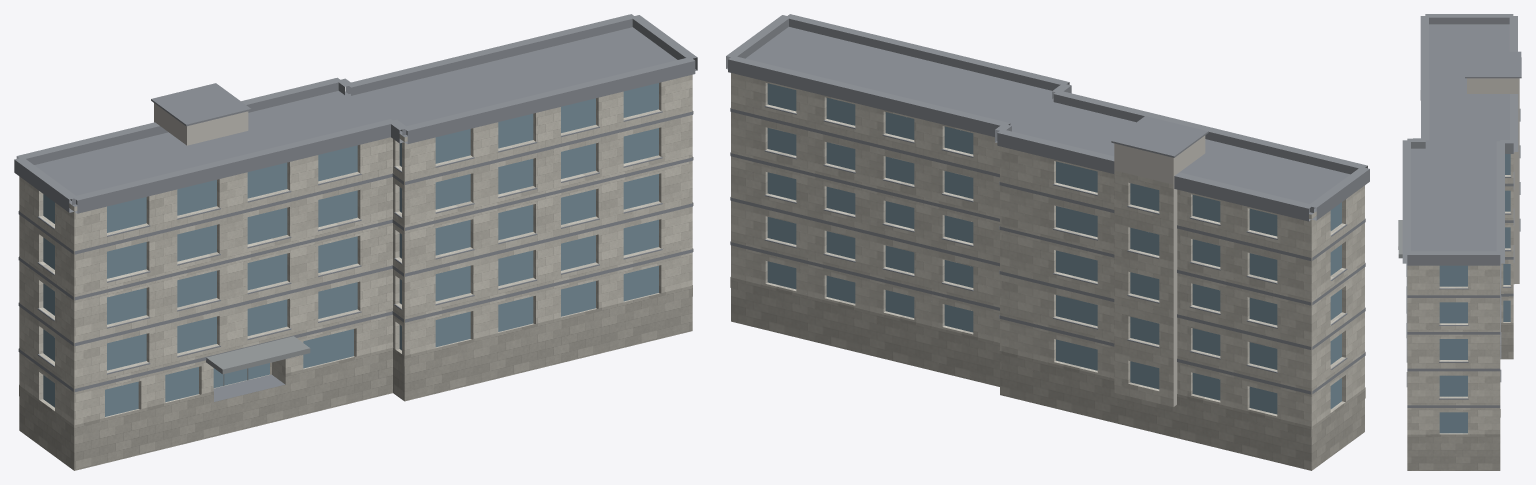
The picture shows the model from 3 angles, left to right: view 1: azimuth 30°, elevation 25°; view 2: azimuth 150°, elevation 25°; view 3: azimuth 270°, elevation 25°; orthographic projection. The views are drawn at different scales.
Parts seen in each view (by area): view 1: intlVillageBW5_5__wall, intlVillageBW5_5__glass, intlVillageBW5_5__trim, intlVillageBW5_5__base, intlVillageBW5_5__roof, intlVillageBW5_5__canopy, intlVillageBW5_5__wall2; view 2: intlVillageBW5_5__wall, intlVillageBW5_5__trim, intlVillageBW5_5__glass, intlVillageBW5_5__base, intlVillageBW5_5__roof, intlVillageBW5_5__wall2; view 3: intlVillageBW5_5__roof, intlVillageBW5_5__wall, intlVillageBW5_5__trim, intlVillageBW5_5__base, intlVillageBW5_5__glass, intlVillageBW5_5__wall2, intlVillageBW5_5__canopy.
Boxes of the visible parts, x1,y1,x2,y2 form: intlVillageBW5_5__wall: [19, 74, 692, 435]; intlVillageBW5_5__glass: [43, 83, 658, 416]; intlVillageBW5_5__trim: [14, 14, 697, 391]; intlVillageBW5_5__base: [19, 285, 692, 470]; intlVillageBW5_5__roof: [34, 27, 677, 401]; intlVillageBW5_5__canopy: [206, 336, 310, 374]; intlVillageBW5_5__wall2: [154, 103, 248, 145]; intlVillageBW5_5__wall: [731, 73, 1364, 437]; intlVillageBW5_5__trim: [726, 14, 1369, 394]; intlVillageBW5_5__glass: [767, 83, 1341, 414]; intlVillageBW5_5__base: [730, 277, 1365, 470]; intlVillageBW5_5__roof: [746, 27, 1350, 214]; intlVillageBW5_5__wall2: [1114, 135, 1205, 406]; intlVillageBW5_5__roof: [1411, 24, 1521, 251]; intlVillageBW5_5__wall: [1407, 154, 1513, 434]; intlVillageBW5_5__trim: [1402, 14, 1521, 407]; intlVillageBW5_5__base: [1407, 323, 1513, 470]; intlVillageBW5_5__glass: [1439, 154, 1510, 433]; intlVillageBW5_5__wall2: [1467, 78, 1519, 284]; intlVillageBW5_5__canopy: [1398, 220, 1402, 258].
Bounding box in the file's own units: 46.45 × 21.2 × 10.03.
9 materials, 2 textured.
